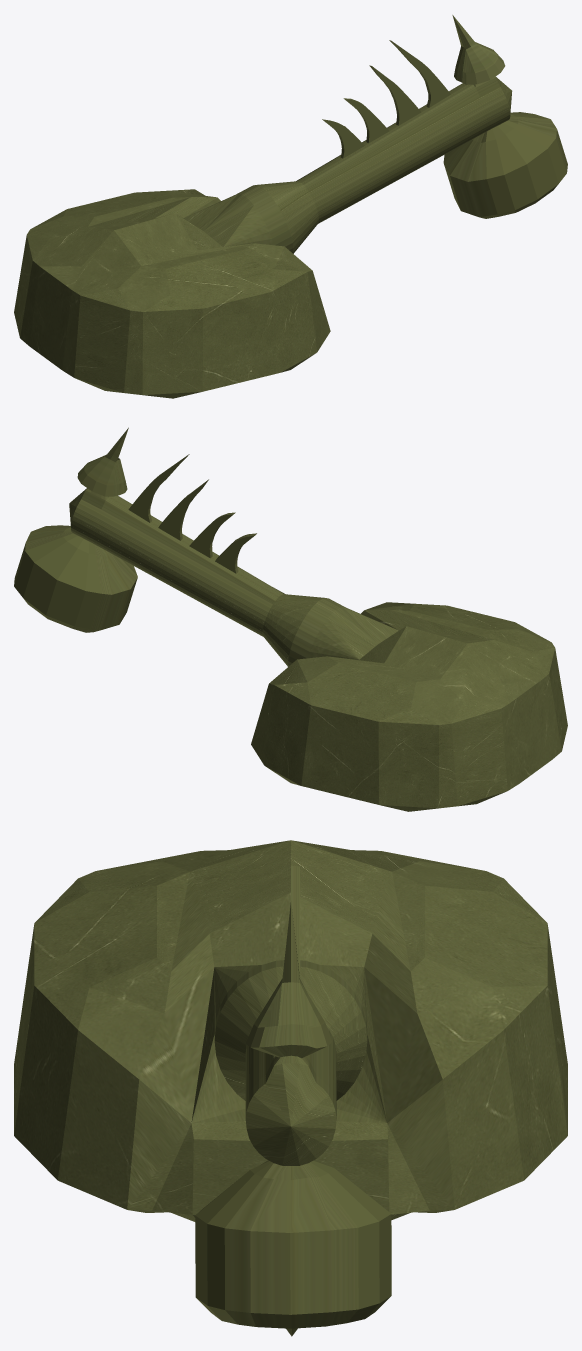
File: HammerDown.fbx
The picture shows the model from 3 angles, top to bottom: view 1: azimuth 30°, elevation 25°; view 2: azimuth 150°, elevation 25°; view 3: azimuth 270°, elevation 25°; orthographic projection. The views are drawn at different scales.
Visible parts, largest first — view 1: HammerDown; view 2: HammerDown; view 3: HammerDown.
Part boxes in pixels (x1,y1,x2,y2): HammerDown: [14, 15, 567, 398]; HammerDown: [14, 427, 567, 811]; HammerDown: [14, 840, 567, 1336].
Size of the model in its own units: 892 by 960 by 1808.
